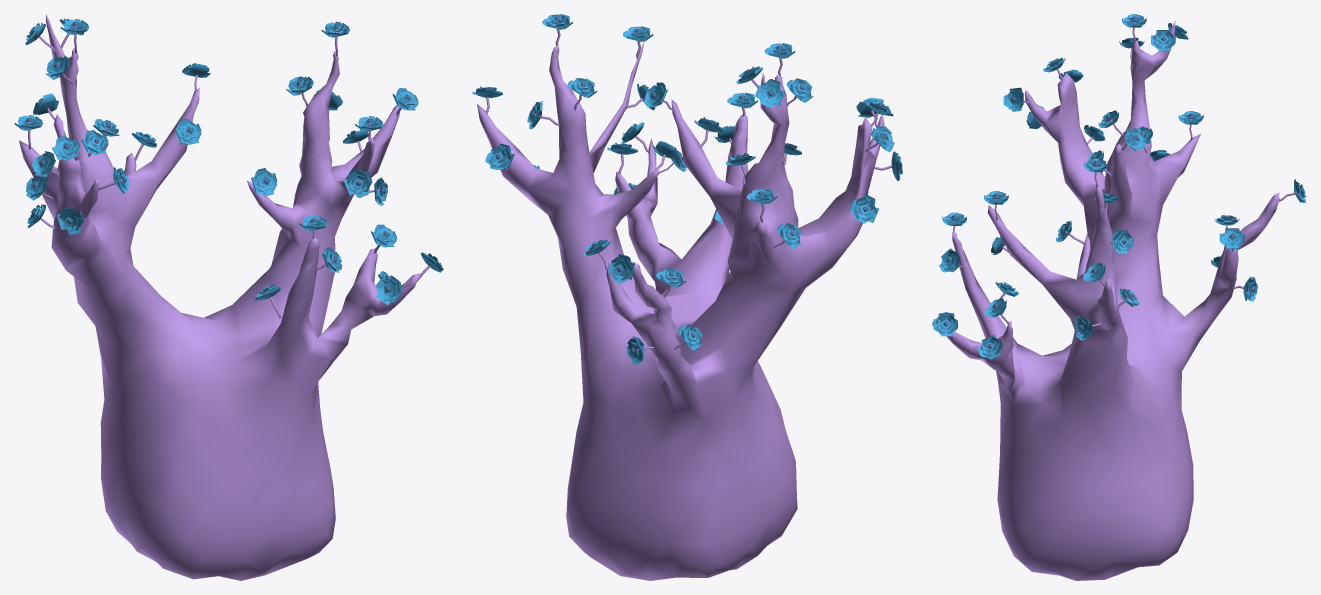
File: tree1.fbx
3 renders of one model, left to right at view 1: azimuth 30°, elevation 25°; view 2: azimuth 150°, elevation 25°; view 3: azimuth 270°, elevation 25°, orthographic. The views are drawn at different scales.
Visible parts, largest first — view 1: Cube, Cube.032, Cube.012, Cube.018; view 2: Cube, Cube.003, Cube.013, Cube.029, Cube.028; view 3: Cube.
Part boxes in pixels (box(x1,y1,x2,y2)): Cube: box(19, 14, 420, 580); Cube.032: box(343, 169, 372, 197); Cube.012: box(376, 276, 402, 305); Cube.018: box(251, 168, 277, 196); Cube: box(477, 41, 884, 580); Cube.003: box(755, 79, 784, 107); Cube.013: box(849, 194, 878, 223); Cube.029: box(607, 254, 634, 283); Cube.028: box(485, 143, 514, 170); Cube: box(946, 20, 1279, 580).
Size of the model in its own units: 172 by 227 by 158.
